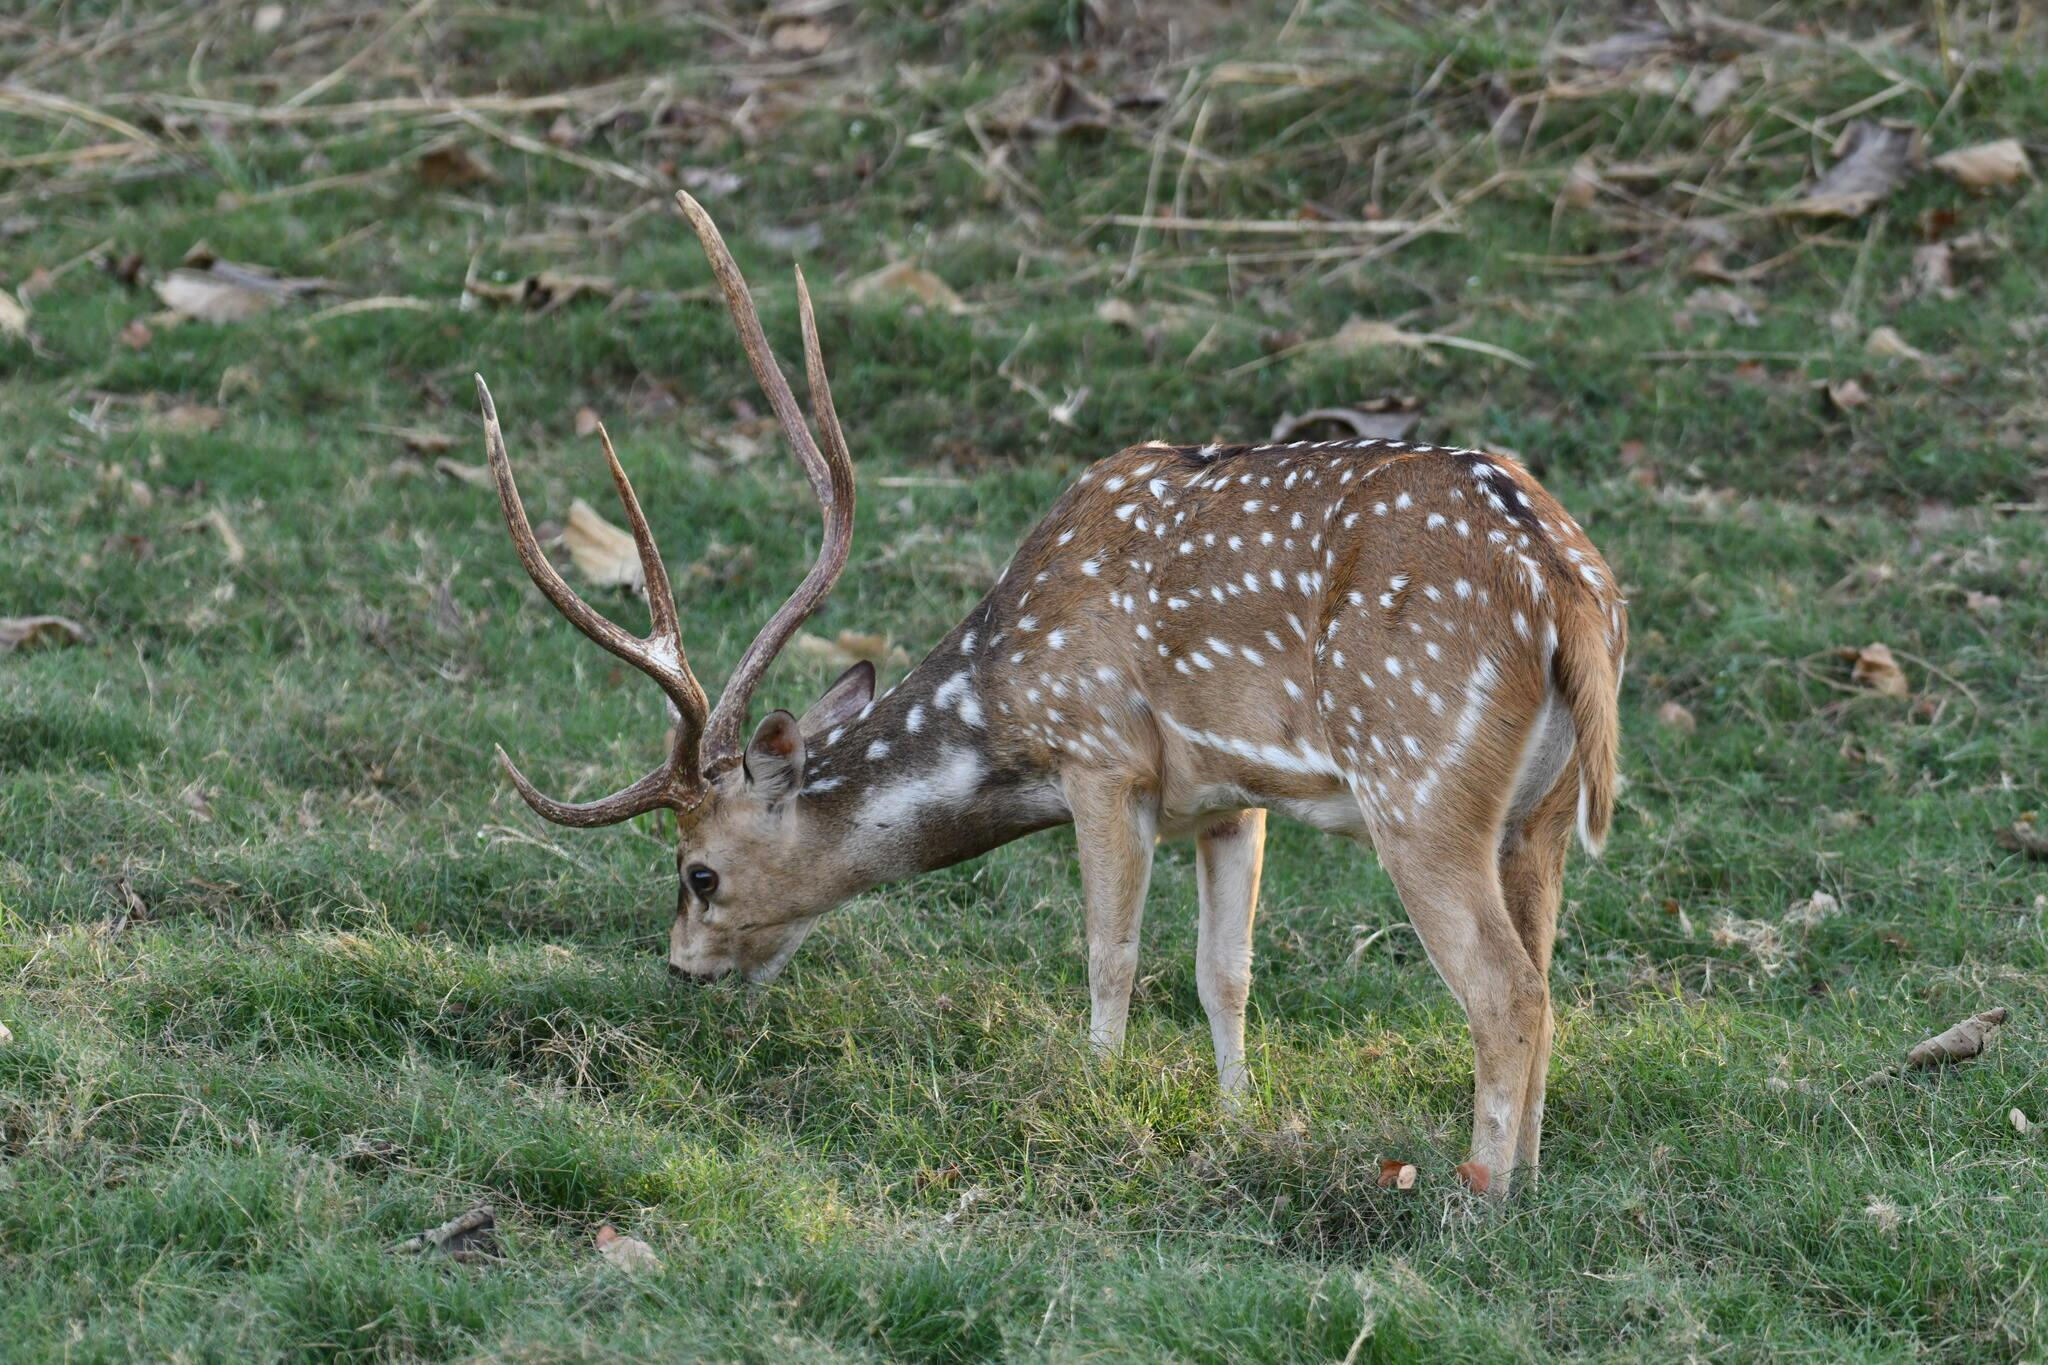Deer: (480, 193, 1628, 1191)
